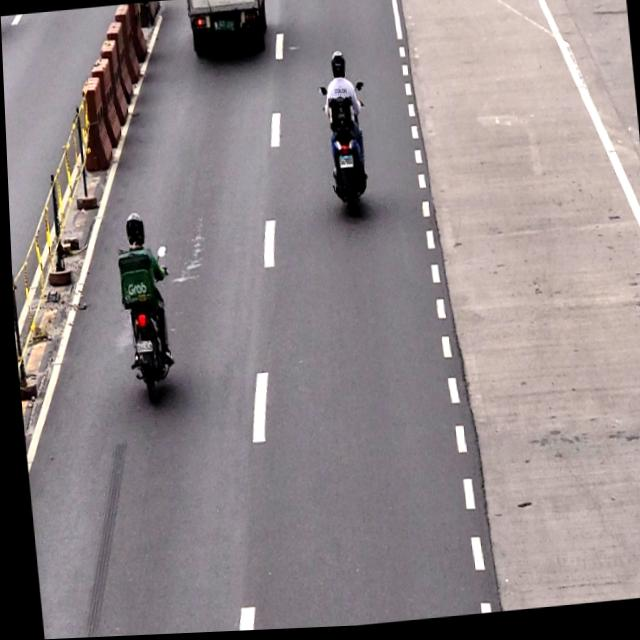License-Plate: (334, 155, 353, 175), (132, 340, 153, 356)
Motorcycle: (109, 204, 171, 405), (321, 46, 372, 233)
